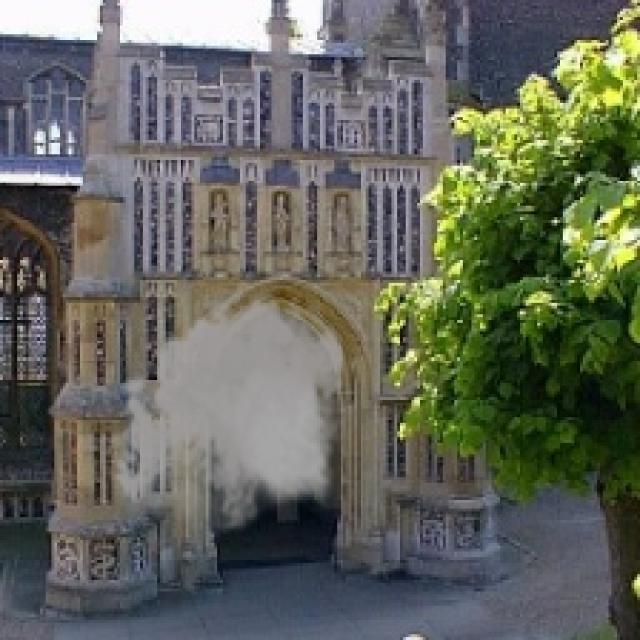smoke: (109, 283, 354, 546)
